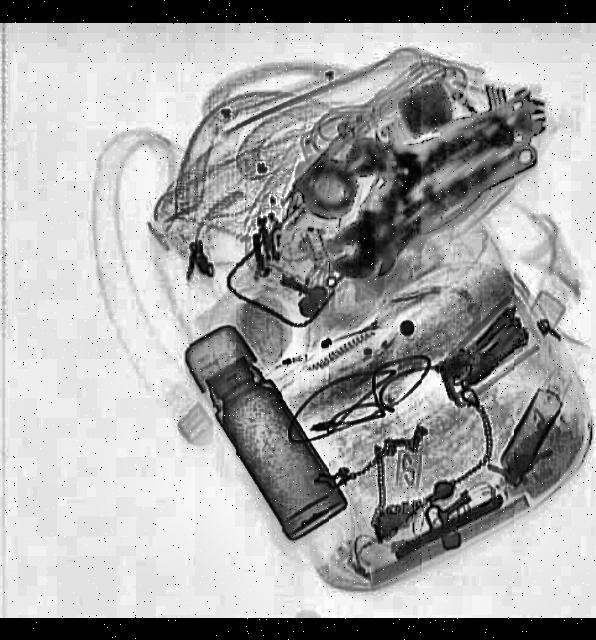Wrench: (316, 122, 548, 286)
